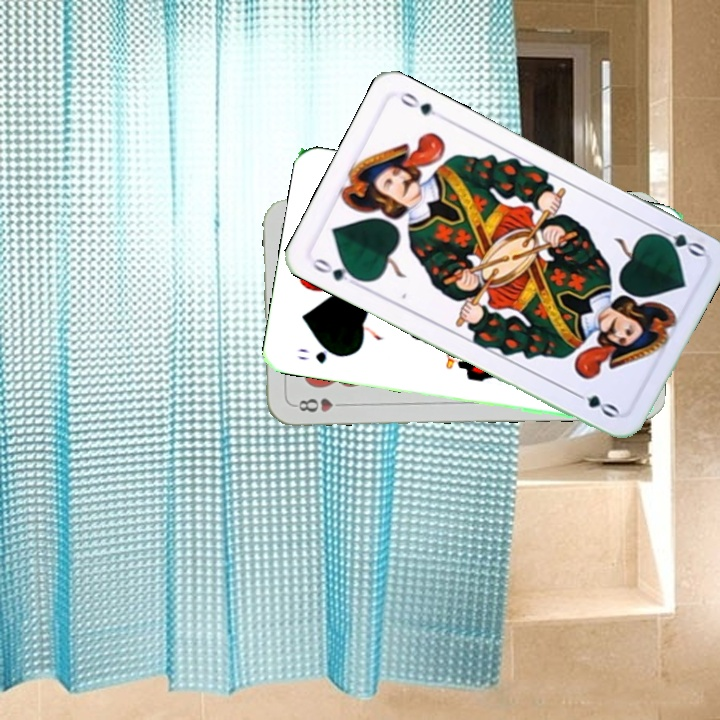GO: (649, 223, 708, 260), (308, 254, 365, 284), (293, 344, 347, 366)
H8: (290, 394, 349, 415)
